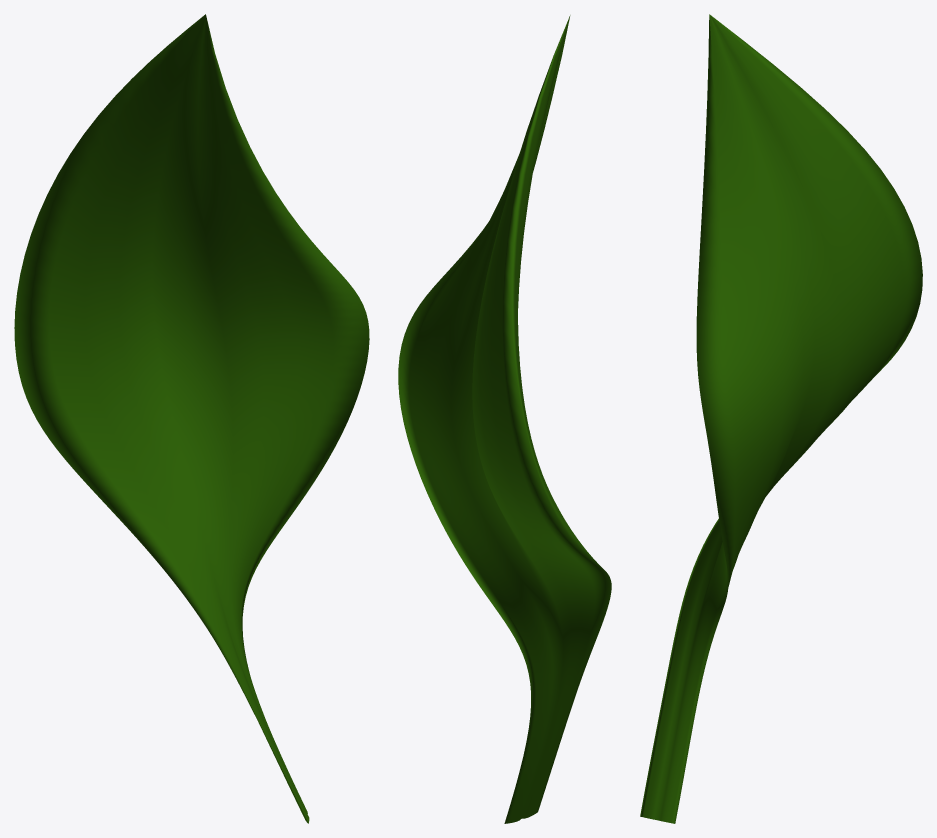
The picture shows the model from 3 angles, left to right: view 1: azimuth 30°, elevation 25°; view 2: azimuth 150°, elevation 25°; view 3: azimuth 270°, elevation 25°; orthographic projection. The views are drawn at different scales.
Parts seen in each view (by area): view 1: ТраекторияNurbs.016; view 2: ТраекторияNurbs.016; view 3: ТраекторияNurbs.016.
Part boxes in pixels (x1=…): ТраекторияNurbs.016: x1=14, y1=14, x2=369, y2=823; ТраекторияNurbs.016: x1=398, y1=15, x2=611, y2=823; ТраекторияNurbs.016: x1=640, y1=14, x2=922, y2=823.
Bounding box in the file's own units: 166 × 493 × 164.
